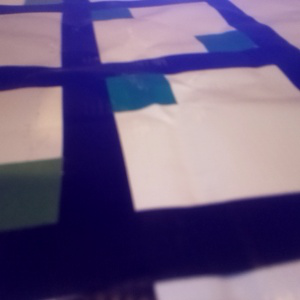bottom_right: (62, 63, 177, 111), (62, 2, 133, 20)
top_left: (1, 157, 122, 296), (195, 31, 276, 66), (23, 1, 87, 12)
